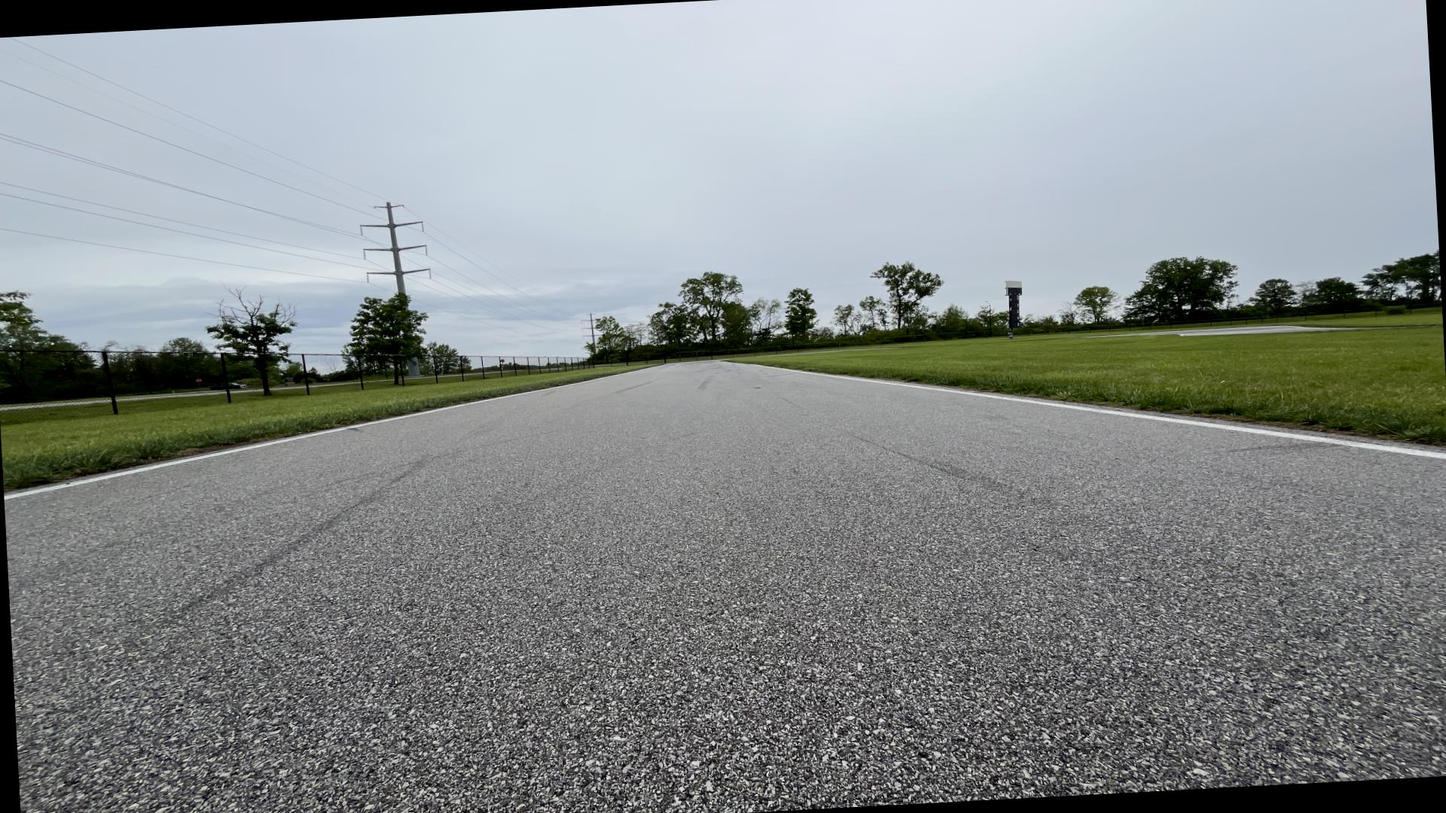white-line: (4, 364, 668, 501), (718, 361, 1445, 460)
